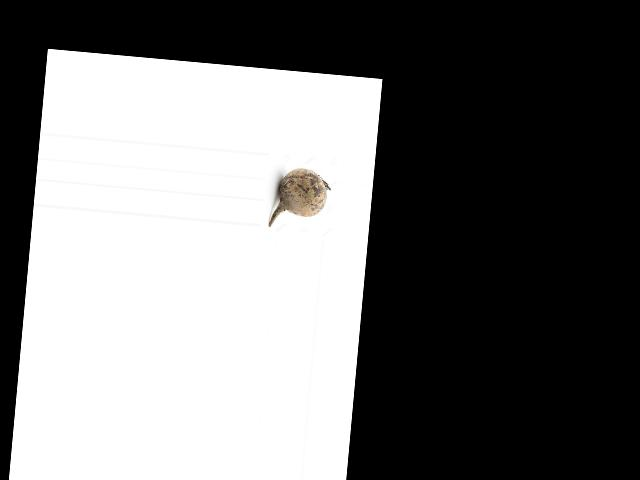beet: (268, 165, 332, 231)
